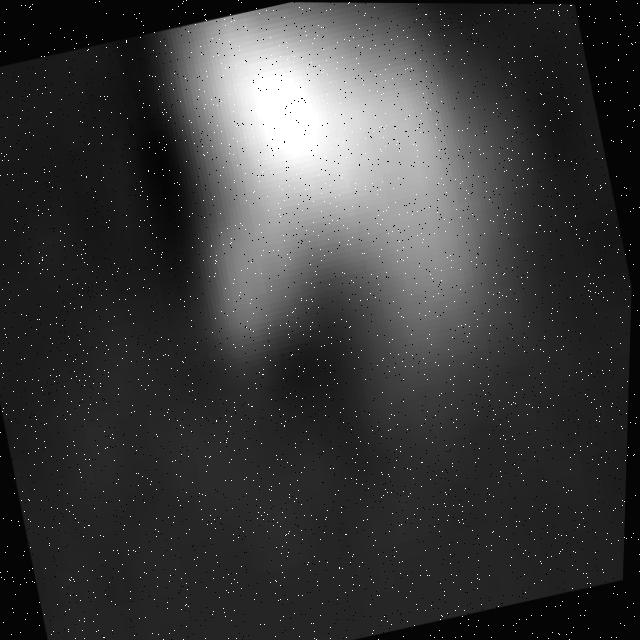person: (107, 2, 585, 509)
